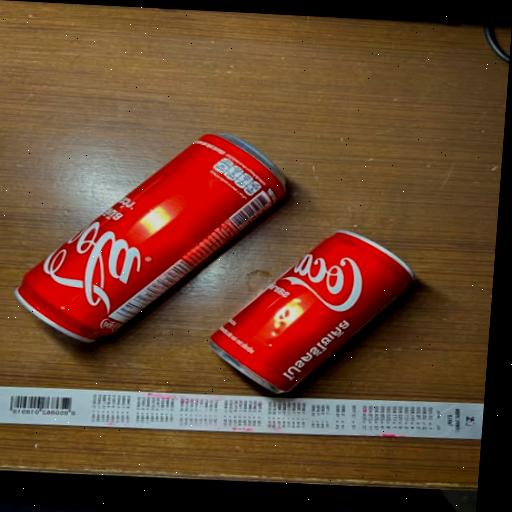canned: (0, 108, 335, 371), (186, 213, 451, 430)
